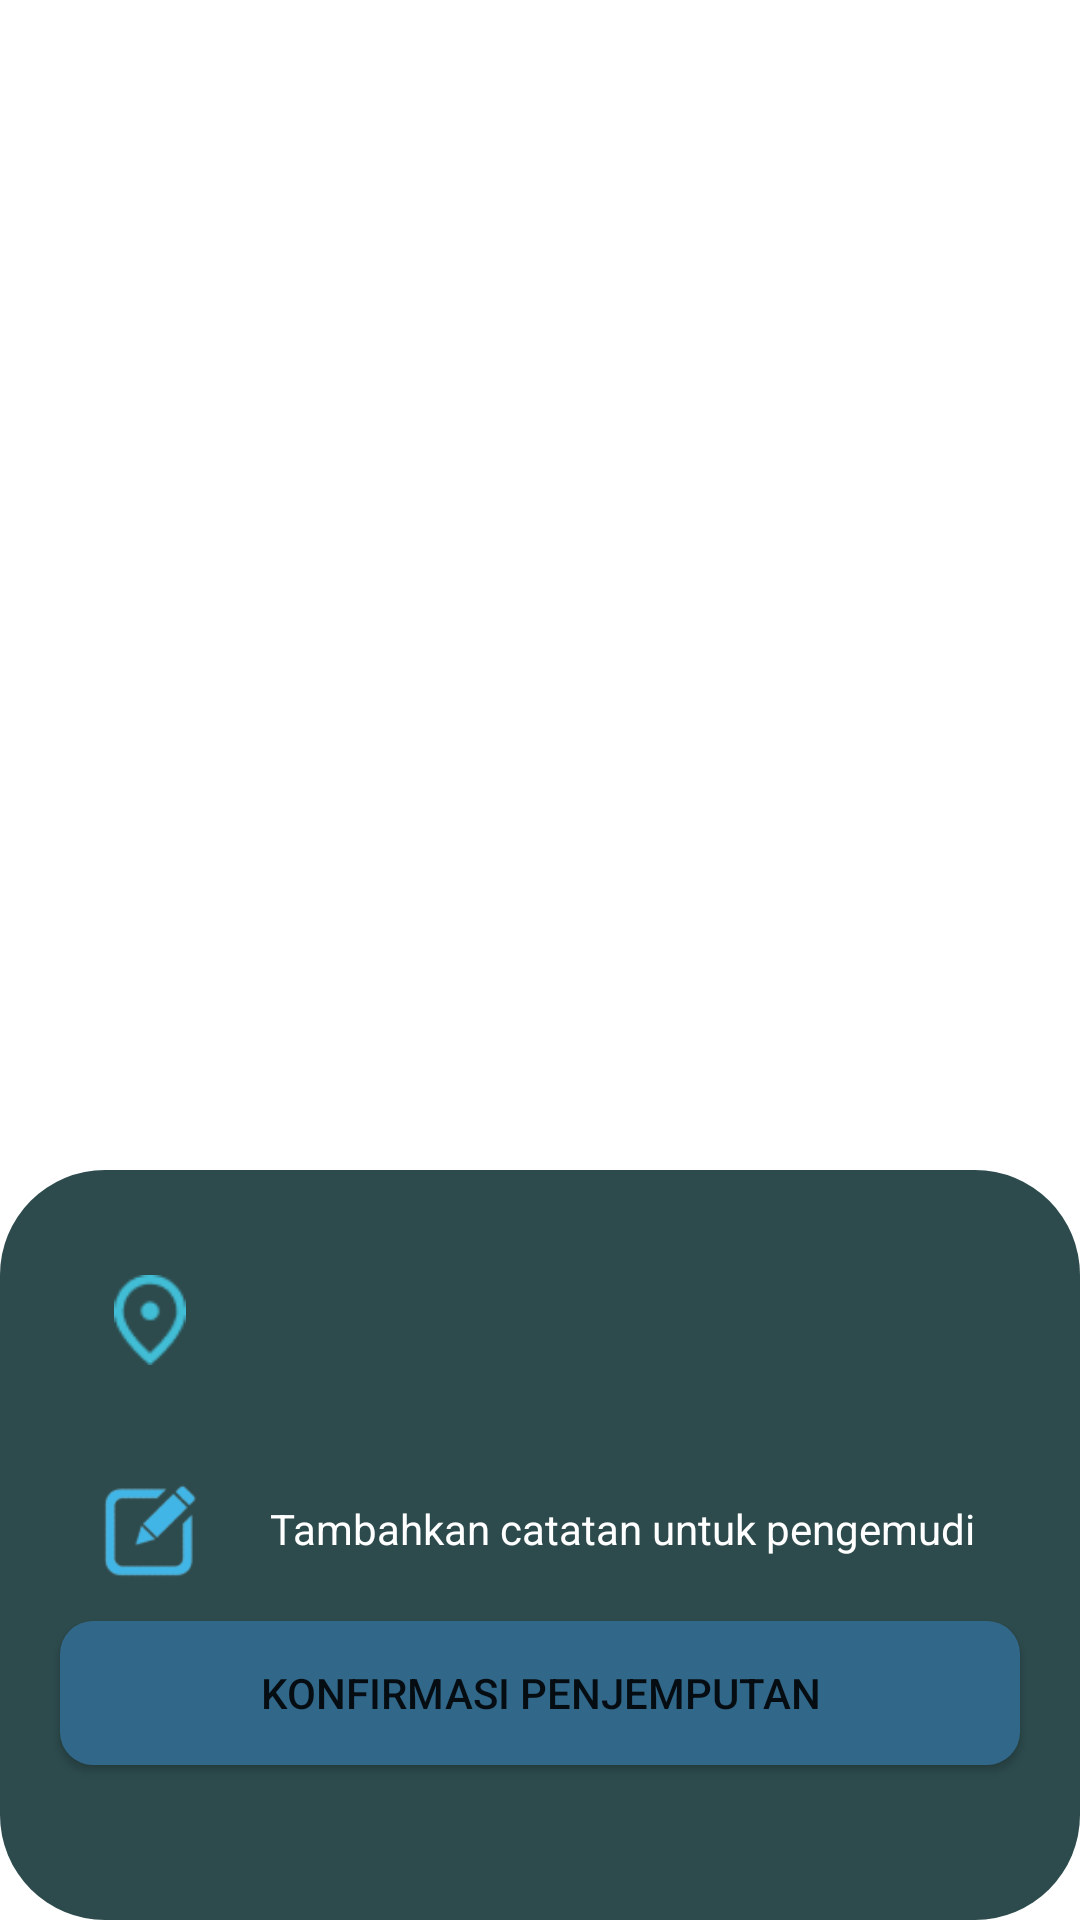

Named icons in this screenshot (1080 × 1920) and their bounding boxes, {"x1": x1, "y1": y1, "x2": x2, "y2": y2}:
maps: {"x1": 114, "y1": 1275, "x2": 186, "y2": 1365}
